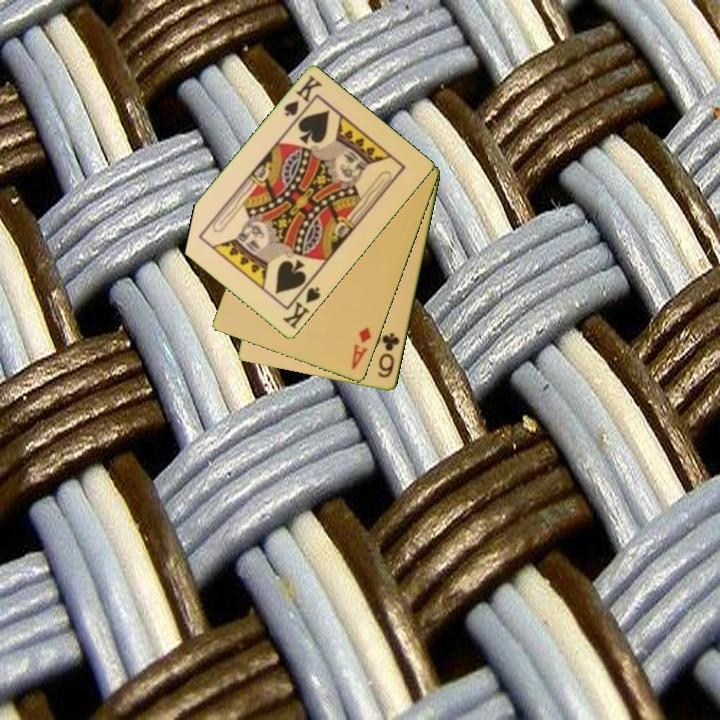6c: (375, 330, 403, 381)
Ad: (348, 323, 374, 373)
Ks: (280, 72, 325, 120), (280, 284, 324, 332)
